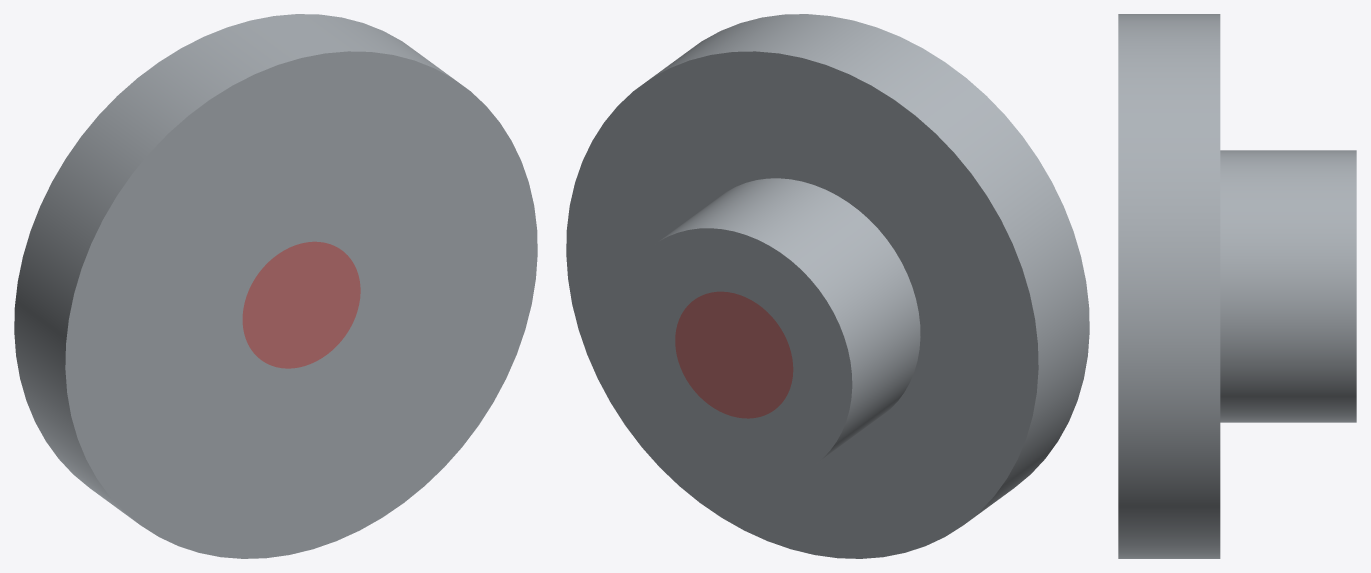
File: step_03.glb
3 views of the same model, side by side, from view 1: azimuth 30°, elevation 25°; view 2: azimuth 150°, elevation 25°; view 3: azimuth 270°, elevation 25° (orthographic).
Visible parts, largest first — view 1: part__flanged locator (GDT), removed__flanged locator (GDT); view 2: part__flanged locator (GDT), removed__flanged locator (GDT); view 3: part__flanged locator (GDT).
Part boxes in pixels (left/top/right/bottom): part__flanged locator (GDT): left=14, top=14, right=537, bottom=558; removed__flanged locator (GDT): left=242, top=241, right=360, bottom=368; part__flanged locator (GDT): left=566, top=14, right=1089, bottom=558; removed__flanged locator (GDT): left=675, top=291, right=793, bottom=418; part__flanged locator (GDT): left=1118, top=14, right=1356, bottom=558.
Size of the model in its own units: 50.78 by 50.77 by 22.23.
